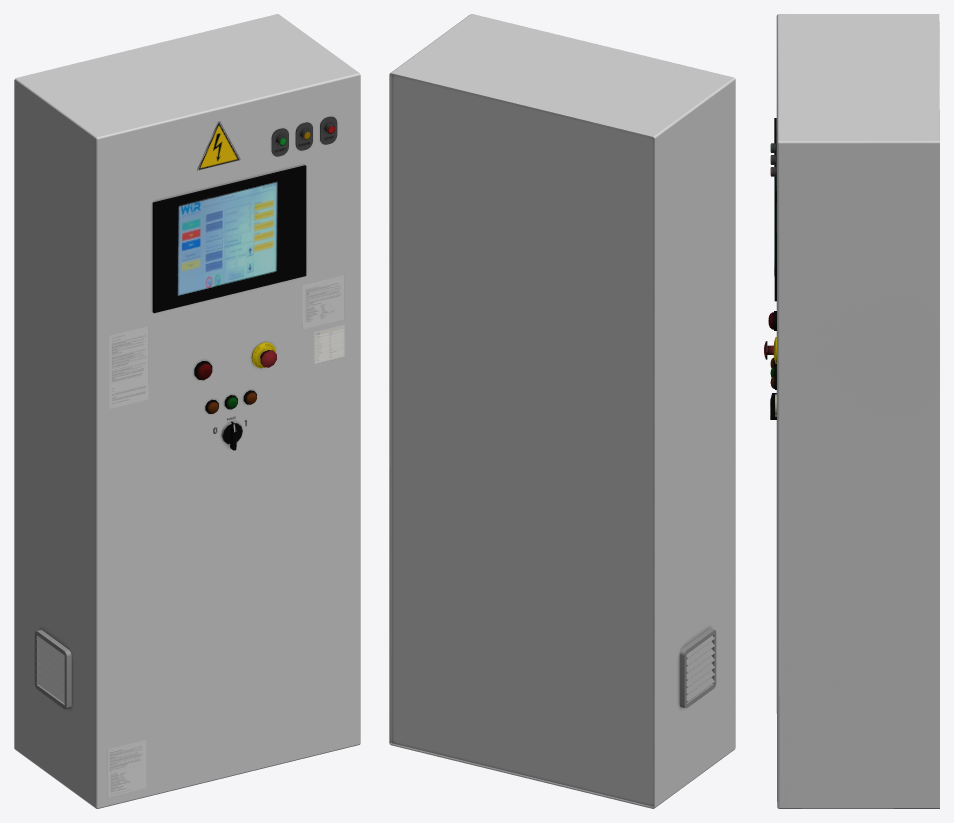
The model's file is ElectricBox1.fbx.
The picture shows the model from 3 angles, left to right: view 1: azimuth 30°, elevation 25°; view 2: azimuth 150°, elevation 25°; view 3: azimuth 270°, elevation 25°; orthographic projection.
Parts seen in each view (by area): view 1: ElectricBox01; view 2: ElectricBox01; view 3: ElectricBox01.
Part boxes in pixels (<box>): ElectricBox01: <box>14,14,360,808</box>; ElectricBox01: <box>389,14,735,808</box>; ElectricBox01: <box>764,14,939,808</box>.
Bounding box in the file's own units: 92.84 × 220 × 52.52.
